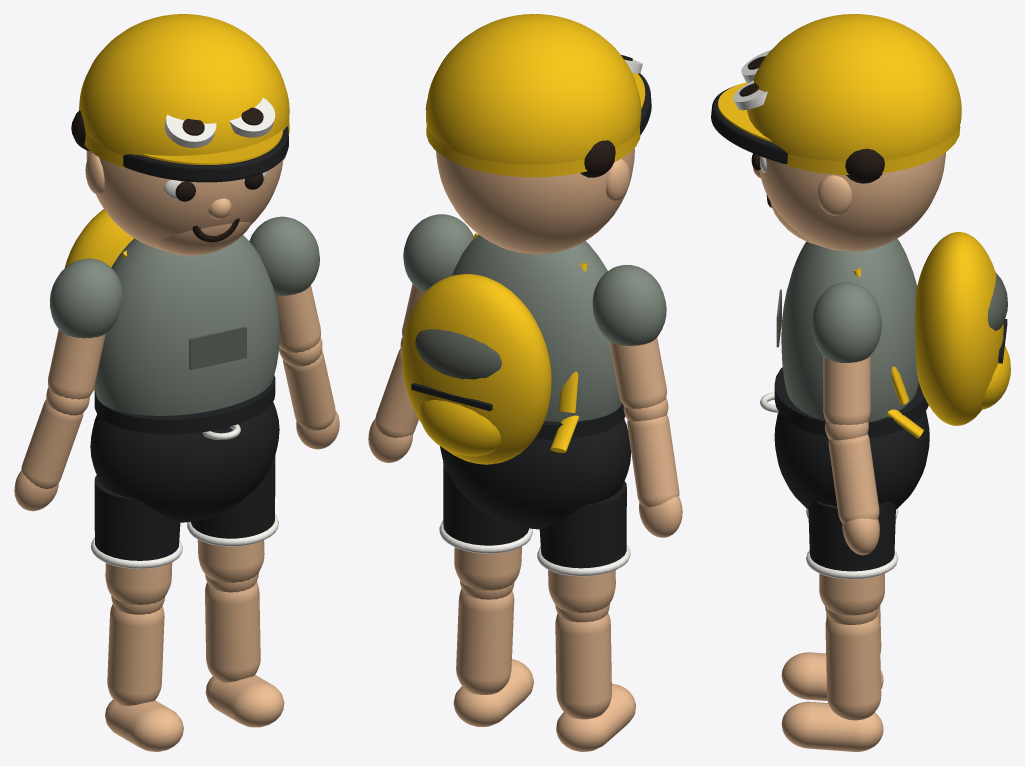
File: kid.glb
The picture shows the model from 3 angles, left to right: view 1: azimuth 30°, elevation 25°; view 2: azimuth 150°, elevation 25°; view 3: azimuth 270°, elevation 25°; orthographic projection.
Visible parts, largest first — view 1: tshirt, cap_crown, shorts, head, shin_l, shin_r, shorts_leg_l, sleeve_l, sleeve_r, shorts_waist, forearm_l, cap_brim (+22 smaller); view 2: cap_crown, bag_body, tshirt, shorts, head, shin_l, shin_r, shorts_leg_l, sleeve_l, sleeve_r, forearm_l, bag_pocket (+20 smaller); view 3: cap_crown, tshirt, bag_body, head, shorts, shin_r, sleeve_r, shorts_leg_r, foot_r, forearm_r, upperarm_r, shorts_waist (+14 smaller).
Boxes of the visible parts, x1,y1,x2,y2 form: tshirt: (94,235,279,415); cap_crown: (79,14,289,155); shorts: (90,402,279,522); head: (86,150,283,248); shin_l: (107,604,164,705); shin_r: (205,581,260,682); shorts_leg_l: (94,475,180,560); sleeve_l: (50,258,122,338); sleeve_r: (249,216,319,295); shorts_waist: (94,375,275,434); forearm_l: (21,399,83,488); cap_brim: (123,126,288,182); cap_crown: (426,14,641,164); bag_body: (402,274,551,464); tshirt: (452,234,621,421); shorts: (440,419,631,529); head: (436,148,634,254); shin_l: (555,613,611,719); shin_r: (456,588,514,694); shorts_leg_l: (539,481,626,568); sleeve_l: (592,265,666,345); sleeve_r: (403,214,473,291); forearm_l: (627,414,679,507); bag_pocket: (419,400,500,456); cap_crown: (747,14,961,161); tshirt: (781,238,918,421); bag_body: (915,232,1003,425); head: (759,152,945,251); shorts: (774,411,929,509); shin_r: (825,615,881,720); sleeve_r: (811,282,881,362); shorts_leg_r: (808,501,895,571); foot_r: (781,701,883,751); forearm_r: (828,434,879,523); upperarm_r: (823,355,870,424); shorts_waist: (774,367,928,437).
Bounding box in the file's own units: 0.4895 × 1.04 × 0.4056.
